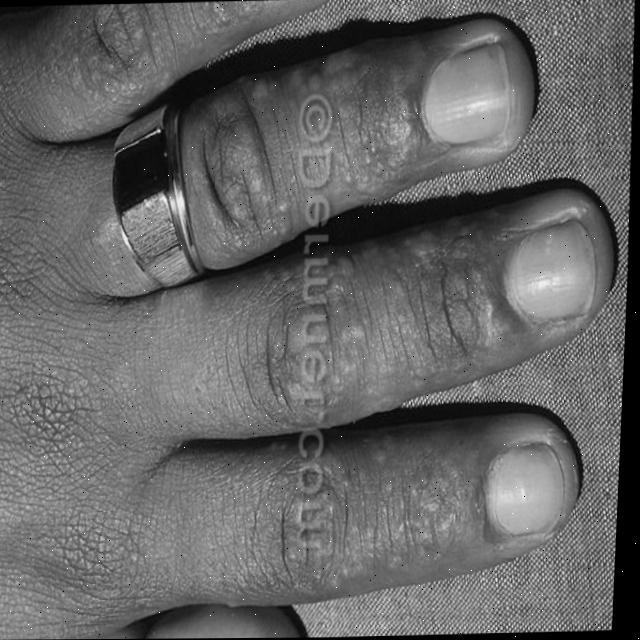Eczema: (305, 281, 525, 384), (310, 474, 481, 583), (64, 0, 242, 100), (329, 80, 428, 184)
